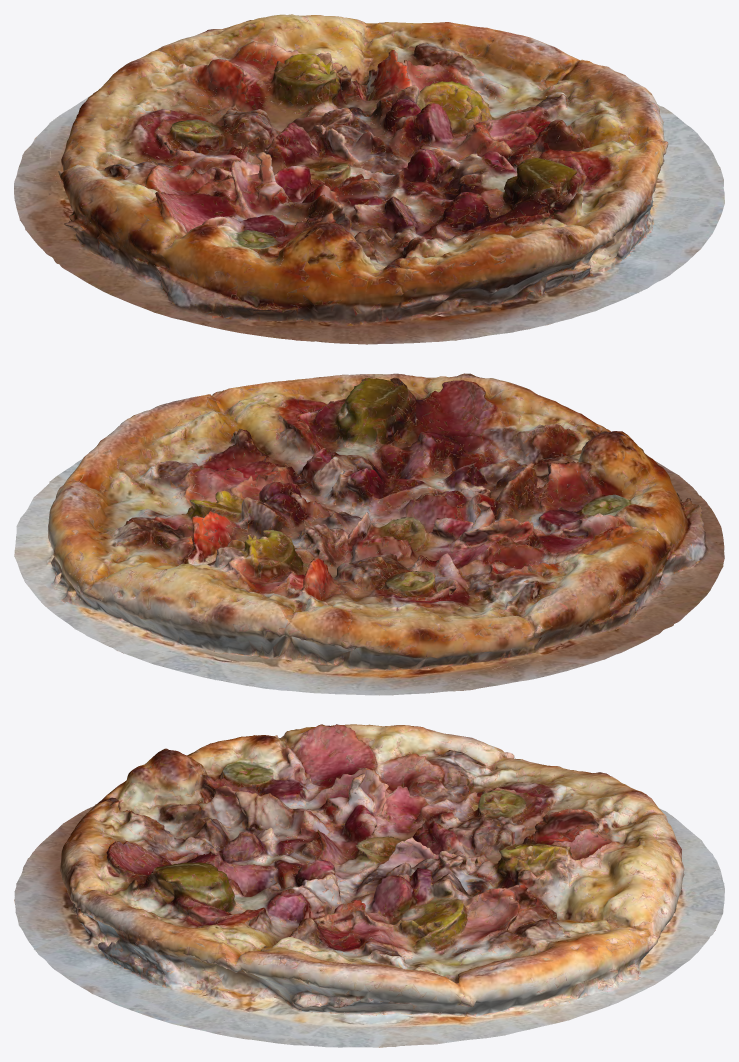
File: pizza-big-boss-mobile.glb
The picture shows the model from 3 angles, top to bottom: view 1: azimuth 30°, elevation 25°; view 2: azimuth 150°, elevation 25°; view 3: azimuth 270°, elevation 25°; orthographic projection.
Visible parts, largest first — view 1: decMesh_pizza_0, decMesh_pizza_1; view 2: decMesh_pizza_0, decMesh_pizza_1; view 3: decMesh_pizza_0, decMesh_pizza_1.
Part boxes in pixels (x1,y1,x2,y2): decMesh_pizza_0: [14, 14, 724, 344]; decMesh_pizza_1: [24, 15, 699, 325]; decMesh_pizza_0: [14, 373, 724, 695]; decMesh_pizza_1: [49, 374, 667, 695]; decMesh_pizza_0: [14, 724, 724, 1047]; decMesh_pizza_1: [14, 724, 676, 1047].
Size of the model in its own units: 0.3994 by 0.0484 by 0.3992.
1 material, 1 textured.
